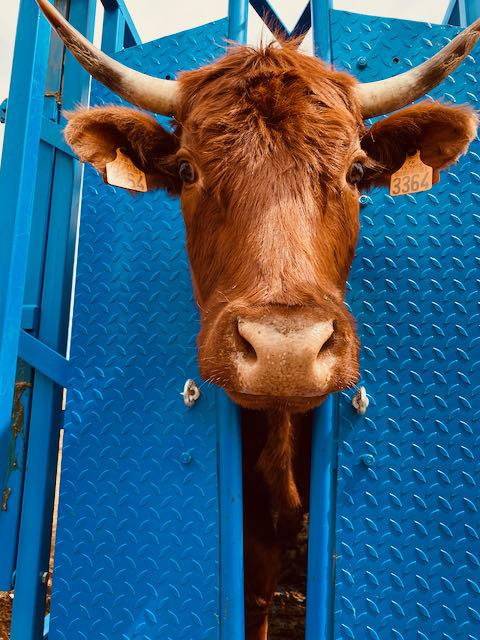muzzles: (194, 307, 367, 408)
